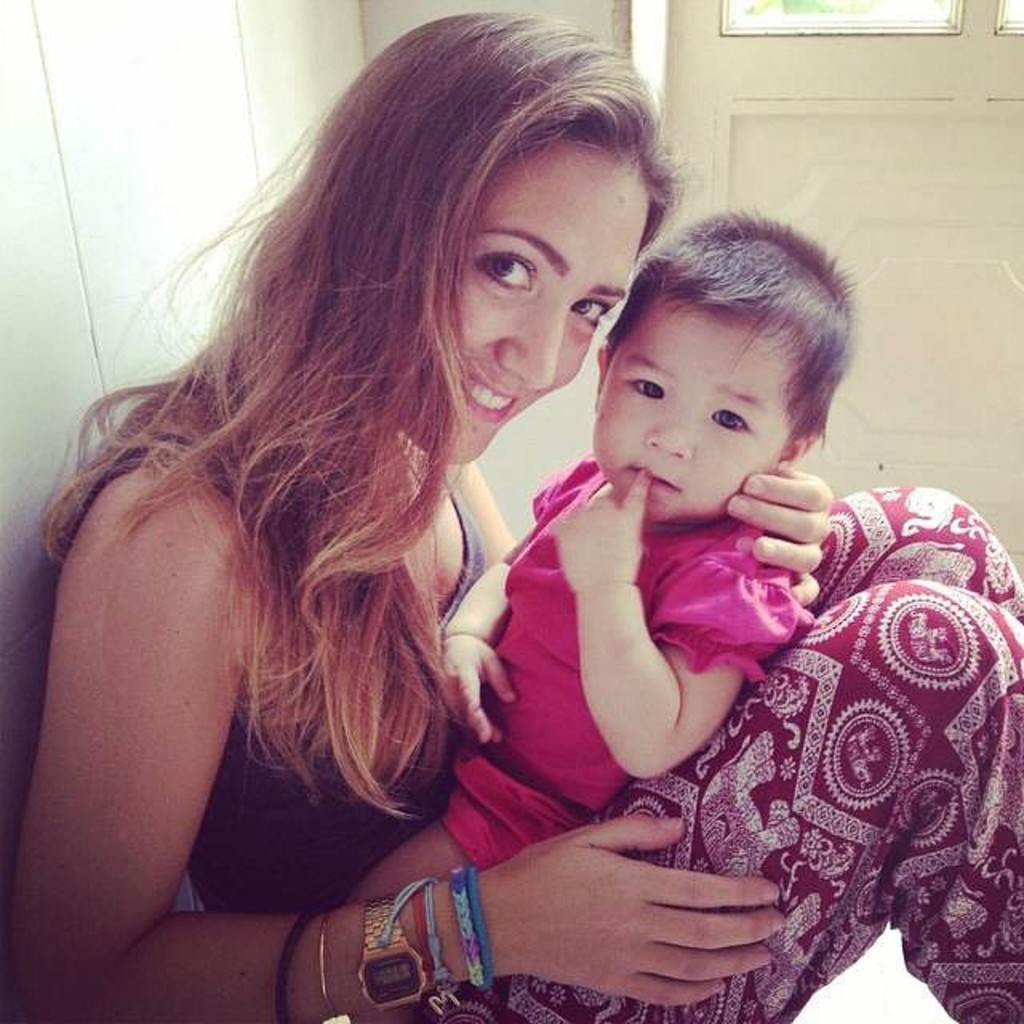Human_hand: (392, 806, 797, 976), (723, 461, 832, 605), (550, 467, 653, 597), (437, 635, 520, 750)
